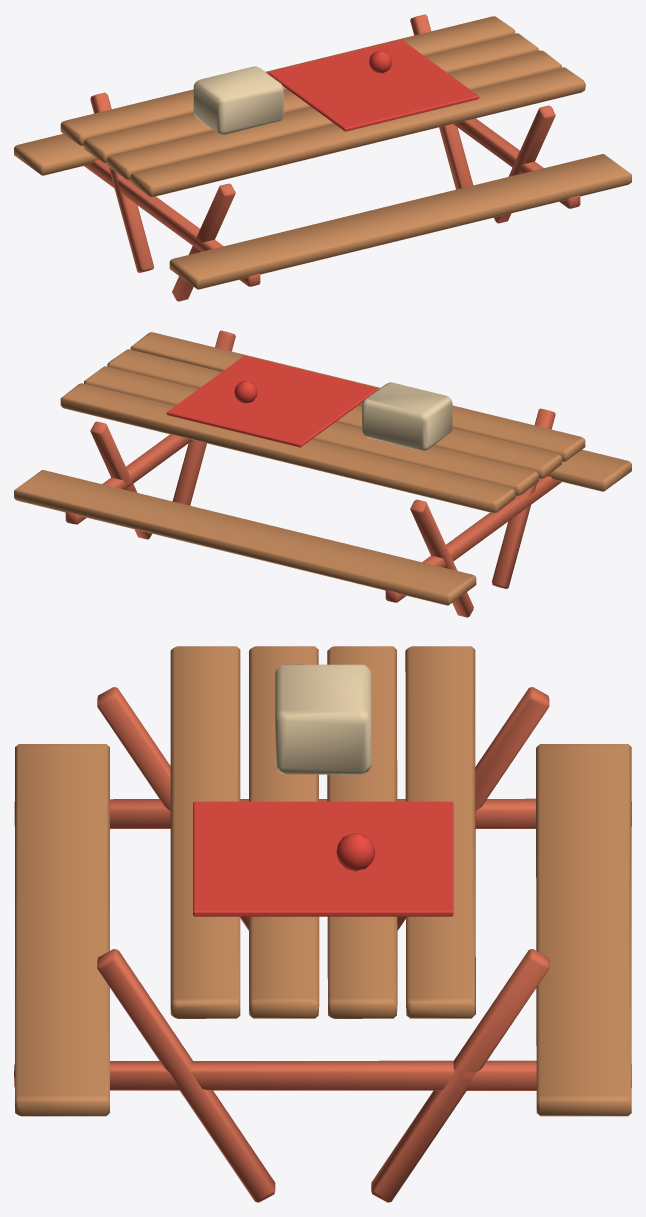
File: picnic_table.glb
The picture shows the model from 3 angles, top to bottom: view 1: azimuth 30°, elevation 25°; view 2: azimuth 150°, elevation 25°; view 3: azimuth 270°, elevation 25°; orthographic projection. The views are drawn at different scales.
Parts seen in each view (by area): view 1: picnic_table; view 2: picnic_table; view 3: picnic_table.
Boxes of the visible parts, x1=… form: picnic_table: x1=14, y1=14, x2=631, y2=301; picnic_table: x1=14, y1=330, x2=631, y2=617; picnic_table: x1=14, y1=646, x2=631, y2=1202.
Size of the model in its own units: 2.59 by 1.05 by 1.89.
1 material, 1 textured.
